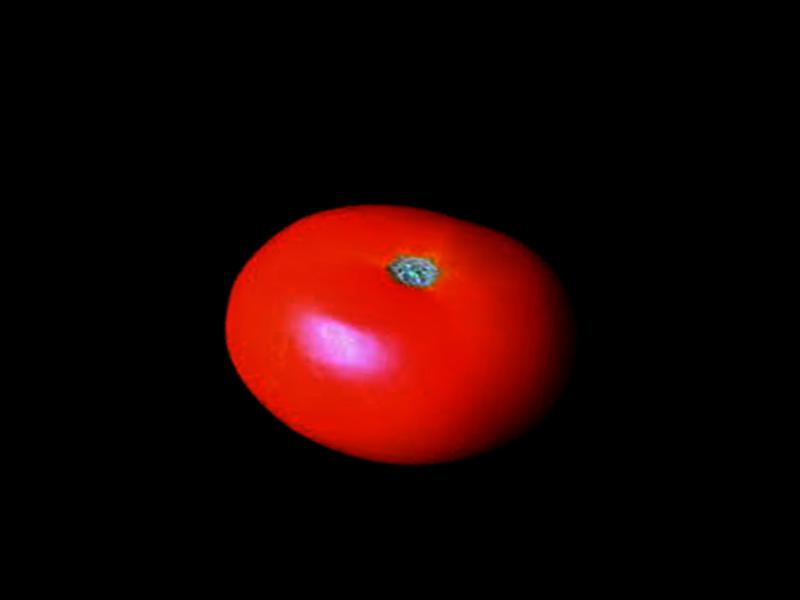Tomato: (207, 183, 593, 486)
